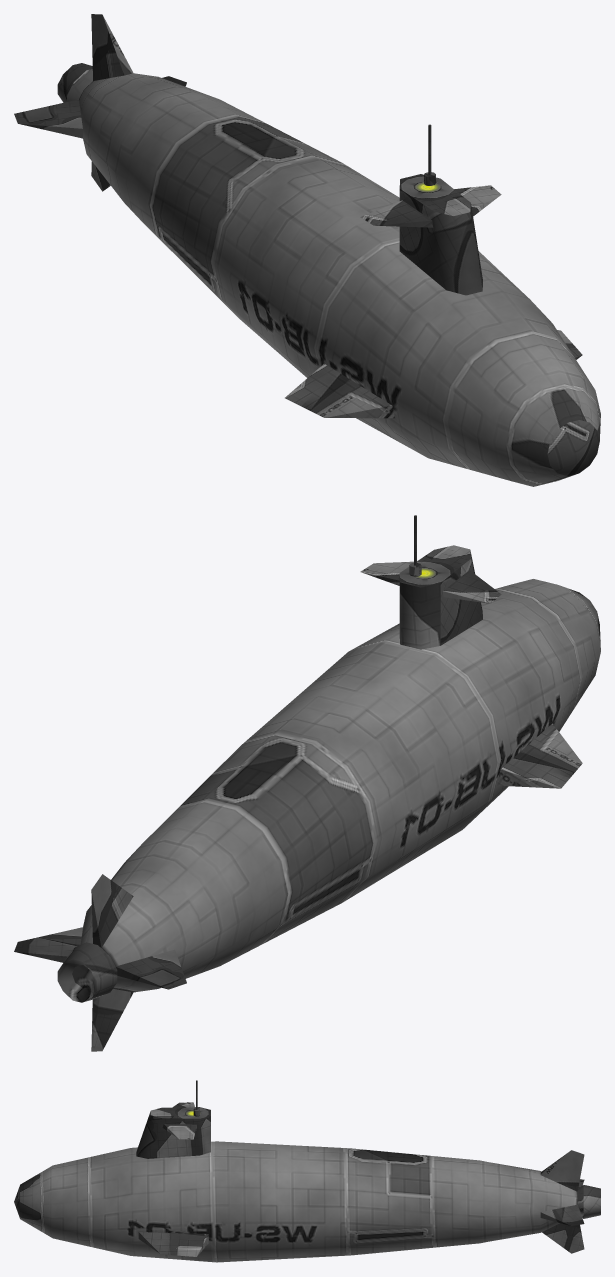
File: Submarine.obj
3 renders of one model, top to bottom at view 1: azimuth 30°, elevation 25°; view 2: azimuth 150°, elevation 25°; view 3: azimuth 270°, elevation 25°, orthographic. The views are drawn at different scales.
Visible parts, largest first — view 1: Submarine; view 2: Submarine; view 3: Submarine.
Part boxes in pixels (box(x1,y1,x2,y2)): Submarine: box(14, 14, 600, 486); Submarine: box(14, 515, 600, 1051); Submarine: box(14, 1080, 600, 1262).
Bounding box in the file's own units: 0.9346 × 0.9818 × 2.93.
